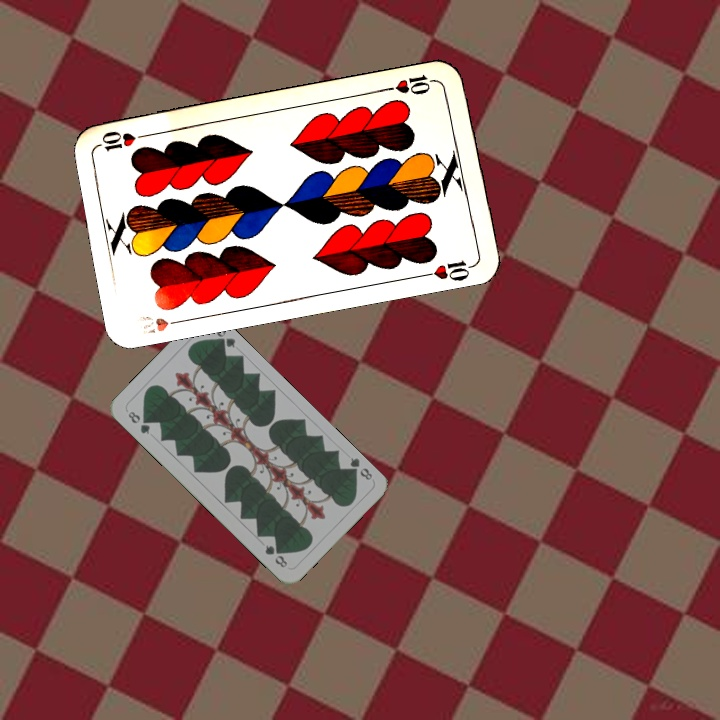G8: (344, 453, 375, 483), (124, 407, 152, 437)
H10: (381, 70, 440, 98), (132, 311, 189, 337)
